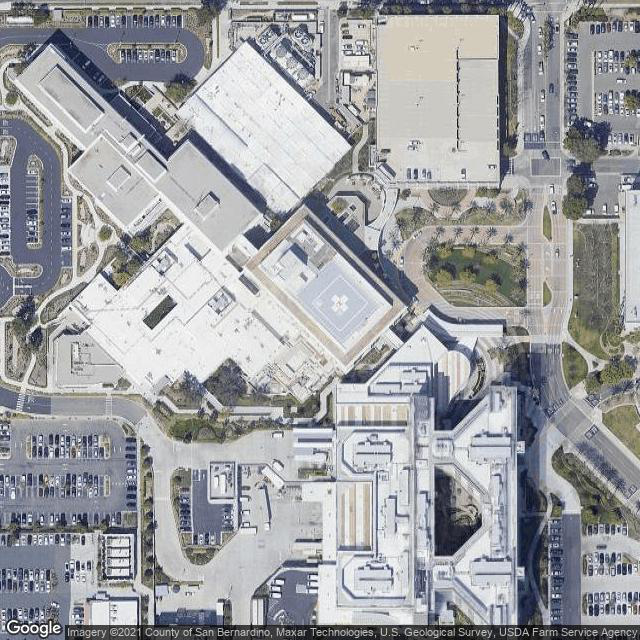Helipad: (314, 275, 368, 330)
